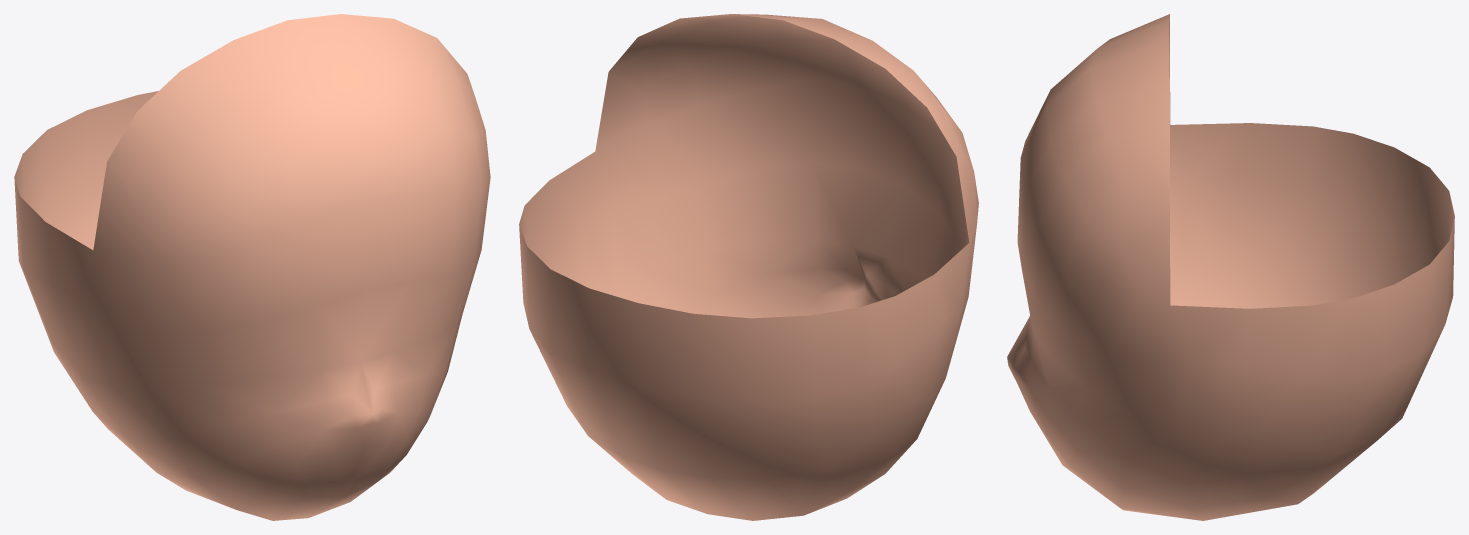
3 renders of one model, left to right at view 1: azimuth 30°, elevation 25°; view 2: azimuth 150°, elevation 25°; view 3: azimuth 270°, elevation 25°, orthographic. The views are drawn at different scales.
Visible parts, largest first — view 1: AF_M_Face_03; view 2: AF_M_Face_03; view 3: AF_M_Face_03.
Part boxes in pixels (x1=…): AF_M_Face_03: x1=14, y1=14, x2=490, y2=520; AF_M_Face_03: x1=519, y1=14, x2=978, y2=520; AF_M_Face_03: x1=1007, y1=14, x2=1454, y2=520.
Size of the model in its own units: 654 by 751 by 661.
1 material, 1 textured.
